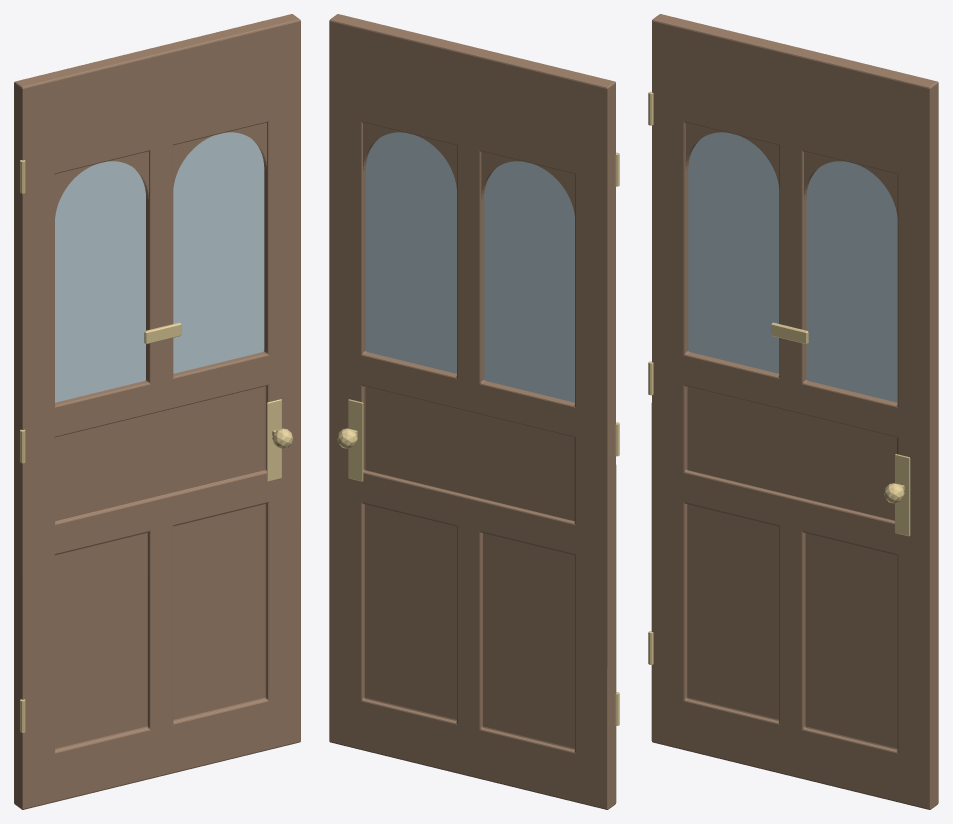
The model's file is door_leaf_front_b.glb.
3 views of the same model, side by side, from view 1: azimuth 30°, elevation 25°; view 2: azimuth 150°, elevation 25°; view 3: azimuth 330°, elevation 25° (orthographic).
Visible parts, largest first — view 1: door_leaf_front_b_door_b, door_leaf_front_b_glass, door_leaf_front_b_brass; view 2: door_leaf_front_b_door_b, door_leaf_front_b_glass, door_leaf_front_b_brass; view 3: door_leaf_front_b_door_b, door_leaf_front_b_glass, door_leaf_front_b_brass.
Boxes of the visible parts, box(x1,y1,x2,y2) form: door_leaf_front_b_door_b: box(14, 14, 300, 809); door_leaf_front_b_glass: box(55, 132, 264, 402); door_leaf_front_b_brass: box(20, 160, 293, 732); door_leaf_front_b_door_b: box(329, 14, 616, 809); door_leaf_front_b_glass: box(366, 132, 574, 402); door_leaf_front_b_brass: box(337, 152, 619, 725); door_leaf_front_b_door_b: box(651, 14, 938, 809); door_leaf_front_b_glass: box(688, 132, 897, 402); door_leaf_front_b_brass: box(648, 91, 910, 664).
Bounding box in the file's own units: 0.928 × 2.28 × 0.21.
